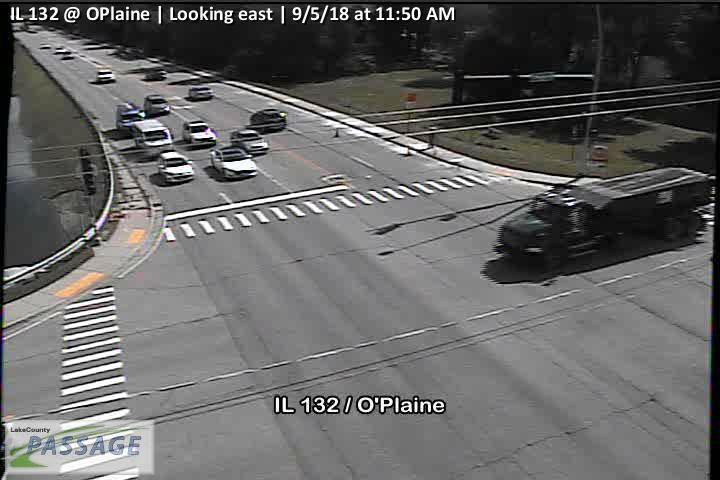SUV: (128, 118, 173, 156)
Sedan: (209, 146, 258, 179), (155, 151, 196, 183), (180, 119, 218, 148), (231, 130, 270, 156), (115, 102, 146, 134), (250, 108, 288, 132), (143, 93, 170, 116), (187, 84, 214, 100)
Truck: (491, 166, 717, 274)
